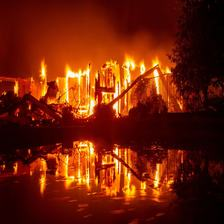fire: (33, 50, 189, 122)
